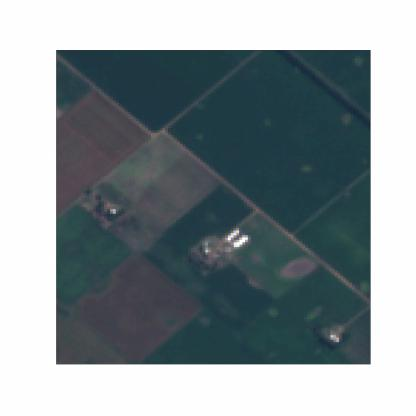silobolsa: (233, 235, 248, 250), (226, 228, 240, 242)
